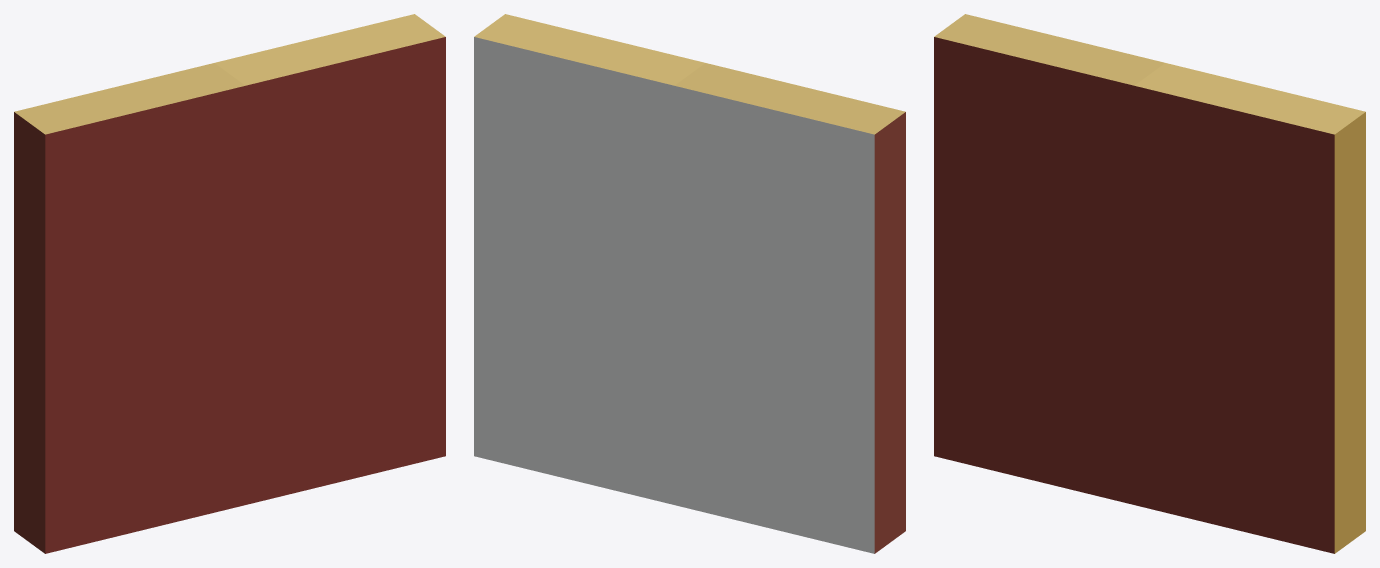
File: book-return-v2.glb
The picture shows the model from 3 angles, left to right: view 1: azimuth 30°, elevation 25°; view 2: azimuth 150°, elevation 25°; view 3: azimuth 330°, elevation 25°; orthographic projection.
Visible parts, largest first — view 1: YummiBook; view 2: YummiBook; view 3: YummiBook.
Boxes of the visible parts, <box> form: YummiBook: <box>14,14,445,553</box>; YummiBook: <box>474,14,905,553</box>; YummiBook: <box>934,14,1365,553</box>.
Bounding box in the file's own units: 2 × 2 × 0.27.
